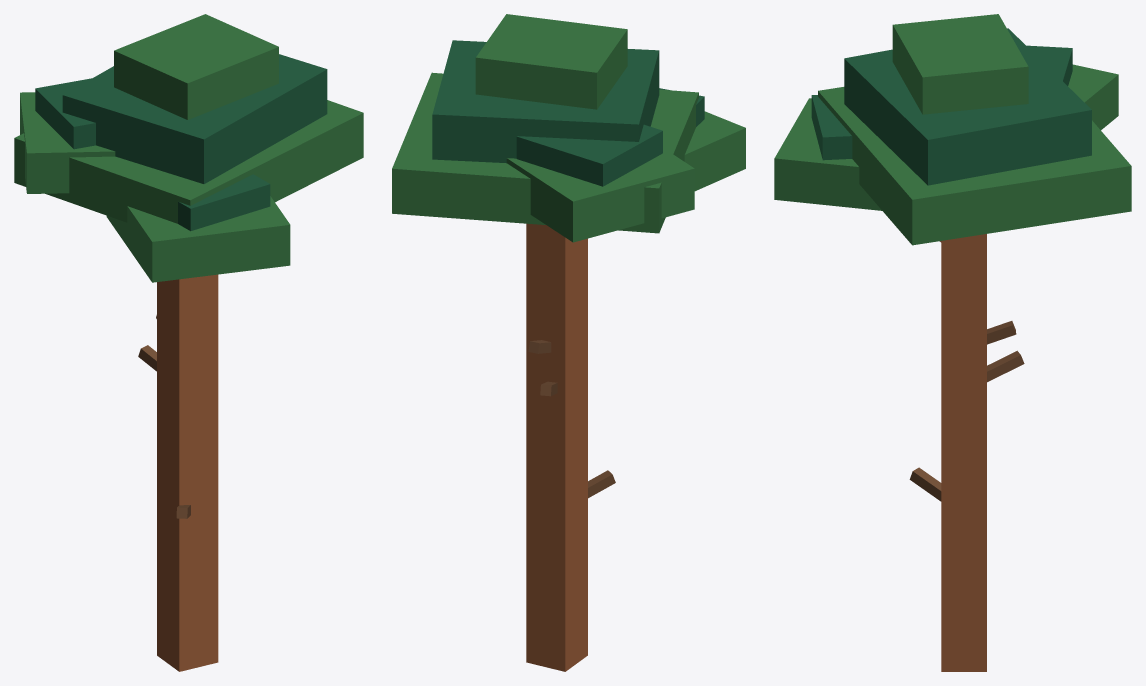
The model's file is A04_pine.obj.
The picture shows the model from 3 angles, left to right: view 1: azimuth 30°, elevation 25°; view 2: azimuth 150°, elevation 25°; view 3: azimuth 270°, elevation 25°; orthographic projection.
Visible parts, largest first — view 1: A04_pine; view 2: A04_pine; view 3: A04_pine.
Part boxes in pixels (<box>): A04_pine: <box>14,14,363,671</box>; A04_pine: <box>392,14,745,671</box>; A04_pine: <box>774,14,1131,671</box>.
Size of the model in its own units: 3.84 by 7.47 by 3.9.
